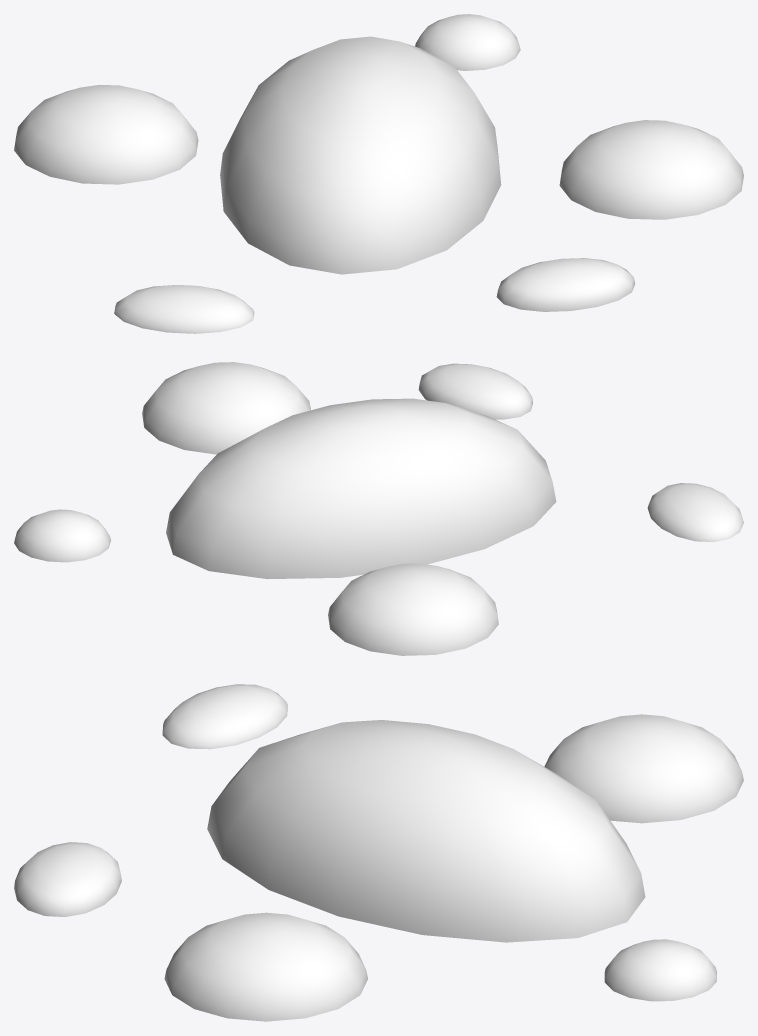
The model's file is Rock_3.fbx.
3 renders of one model, top to bottom at view 1: azimuth 30°, elevation 25°; view 2: azimuth 150°, elevation 25°; view 3: azimuth 270°, elevation 25°, orthographic. The views are drawn at different scales.
Visible parts, largest first — view 1: Stone_3; view 2: Stone_3; view 3: Stone_3.
Part boxes in pixels (left/top/right/bottom): Stone_3: left=14, top=14, right=743, bottom=333; Stone_3: left=14, top=362, right=743, bottom=655; Stone_3: left=14, top=684, right=743, bottom=1021.
Size of the model in its own units: 0.712 by 0.1199 by 0.6653.
